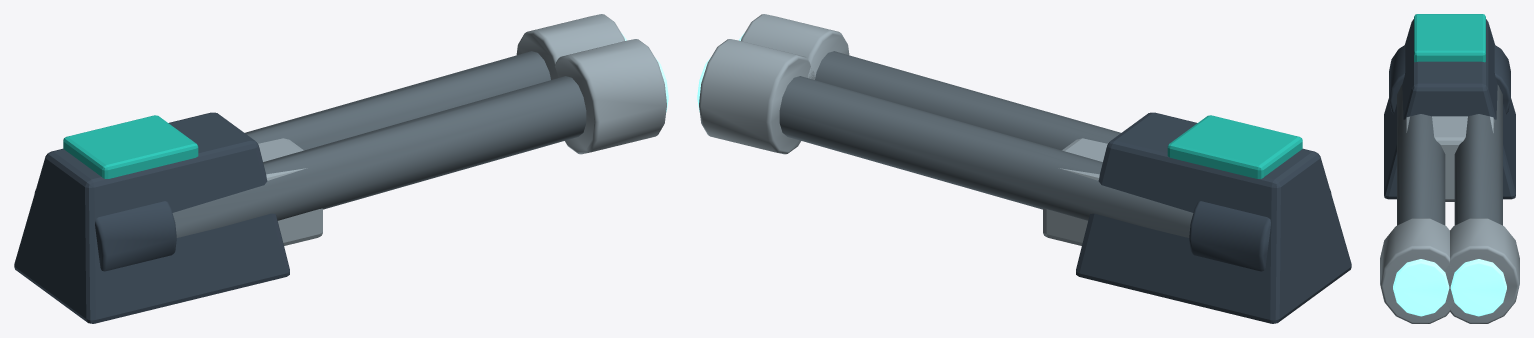
File: SM_Needle_Weapon.fbx
The picture shows the model from 3 angles, left to right: view 1: azimuth 30°, elevation 25°; view 2: azimuth 150°, elevation 25°; view 3: azimuth 270°, elevation 25°; orthographic projection. The views are drawn at different scales.
Parts seen in each view (by area): view 1: SM_Needle_Weapon; view 2: SM_Needle_Weapon; view 3: SM_Needle_Weapon.
Boxes of the visible parts, box(x1,y1,x2,y2) form: SM_Needle_Weapon: box(14, 14, 668, 323); SM_Needle_Weapon: box(697, 14, 1351, 323); SM_Needle_Weapon: box(1380, 14, 1519, 323).
Bounding box in the file's own units: 32.77 × 7.97 × 7.41.
